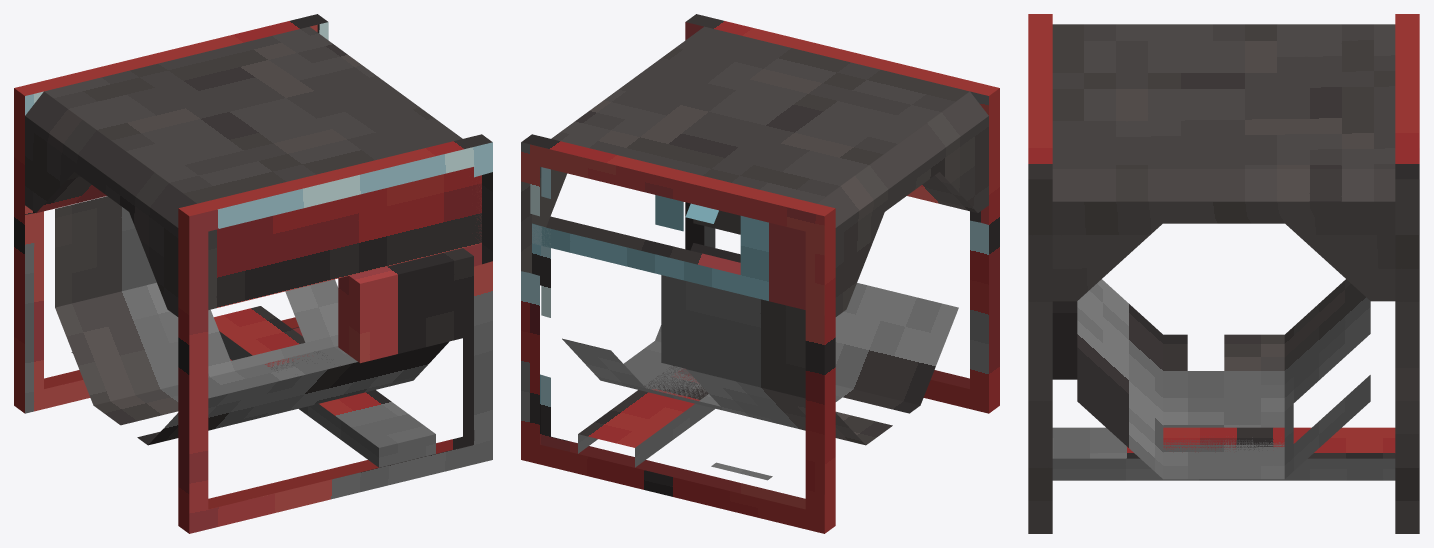
Rendered from liquid_compressor.obj.
3 views of the same model, side by side, from view 1: azimuth 30°, elevation 25°; view 2: azimuth 150°, elevation 25°; view 3: azimuth 270°, elevation 25° (orthographic). The views are drawn at different scales.
Parts seen in each view (by area): view 1: Tank, Frame, Gen, Box; view 2: Tank, Frame, Gen, Box; view 3: Tank, Frame, Gen, Box.
Boxes of the visible parts, x1,y1,x2,y2 form: Tank: (25, 26, 481, 316); Frame: (14, 14, 492, 533); Gen: (55, 196, 449, 445); Box: (338, 248, 473, 363); Tank: (532, 26, 988, 316); Frame: (521, 14, 999, 533); Gen: (562, 243, 958, 445); Box: (693, 210, 740, 234); Tank: (1052, 24, 1395, 301); Frame: (1028, 14, 1419, 533); Gen: (1077, 279, 1370, 479); Box: (1052, 301, 1077, 379).
Size of the model in its own units: 1 by 1 by 1.
